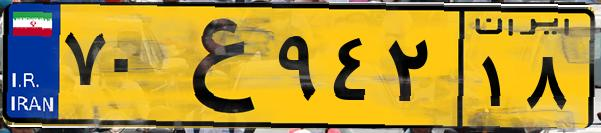0: (110, 28, 158, 98)
1: (475, 38, 525, 113)
2: (385, 28, 445, 110)
4: (330, 28, 385, 110)
7: (57, 26, 110, 100)
8: (525, 38, 570, 115)
9: (270, 28, 330, 110)
ع: (158, 12, 270, 120)
